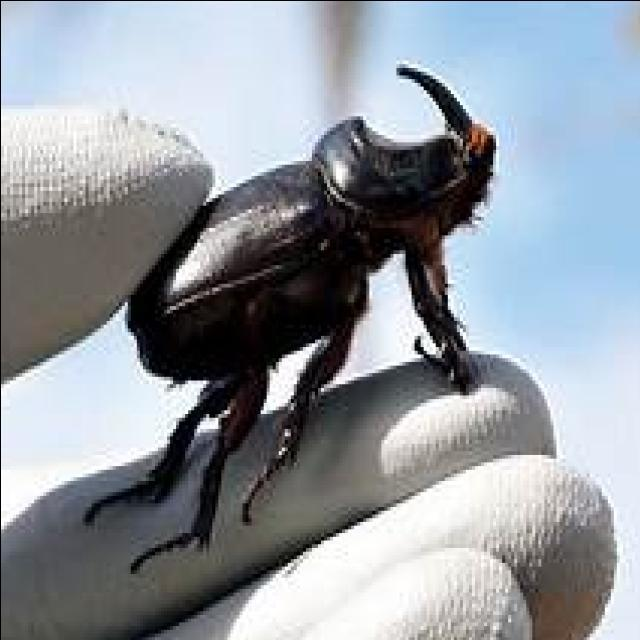Rhino-beetle: (89, 60, 516, 509)
